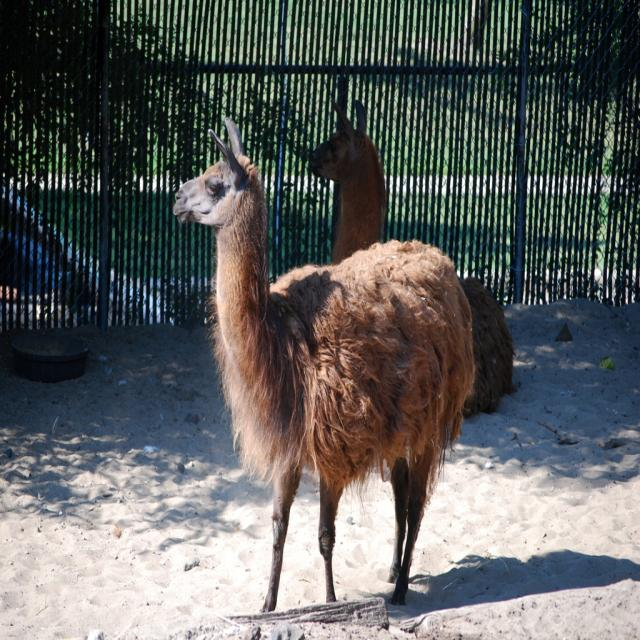alpaca: (174, 115, 476, 612), (306, 100, 518, 415)
